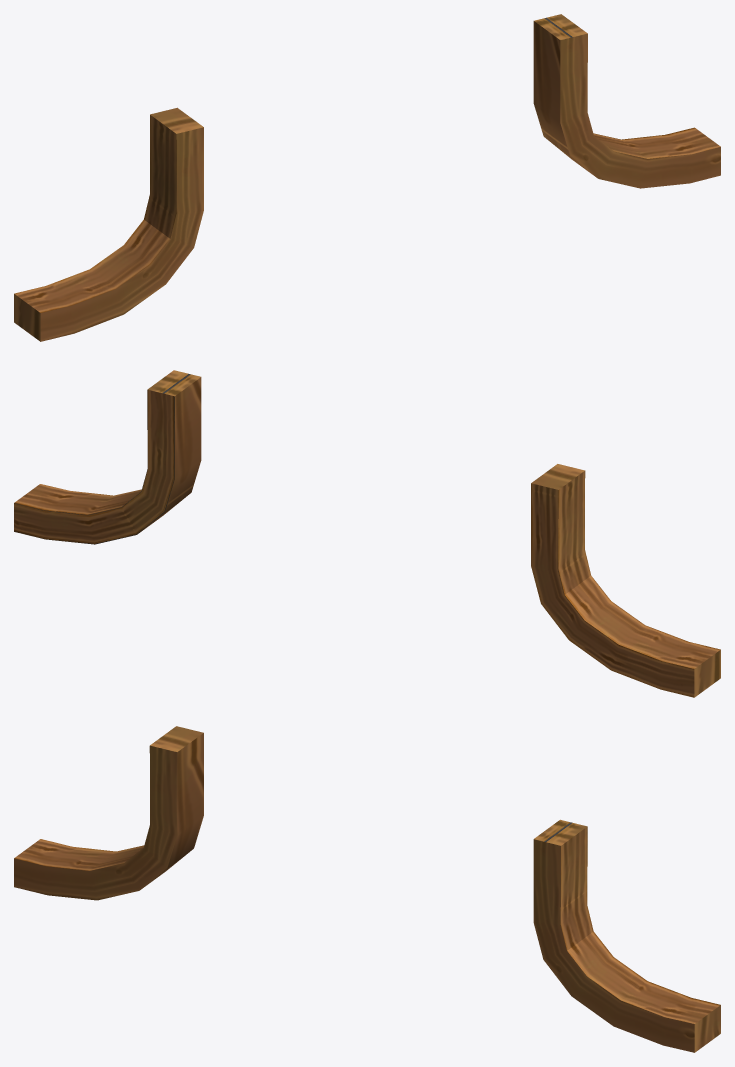
3 renders of one model, top to bottom at view 1: azimuth 30°, elevation 25°; view 2: azimuth 150°, elevation 25°; view 3: azimuth 330°, elevation 25°, orthographic.
Visible parts, largest first — view 1: Cube.573; view 2: Cube.573; view 3: Cube.573.
Boxes of the visible parts, x1=… form: Cube.573: x1=14, y1=14, x2=720, y2=341; Cube.573: x1=14, y1=370, x2=720, y2=697; Cube.573: x1=14, y1=726, x2=720, y2=1052.
Bounding box in the file's own units: 551 × 135 × 37.33.
1 material, 1 textured.
